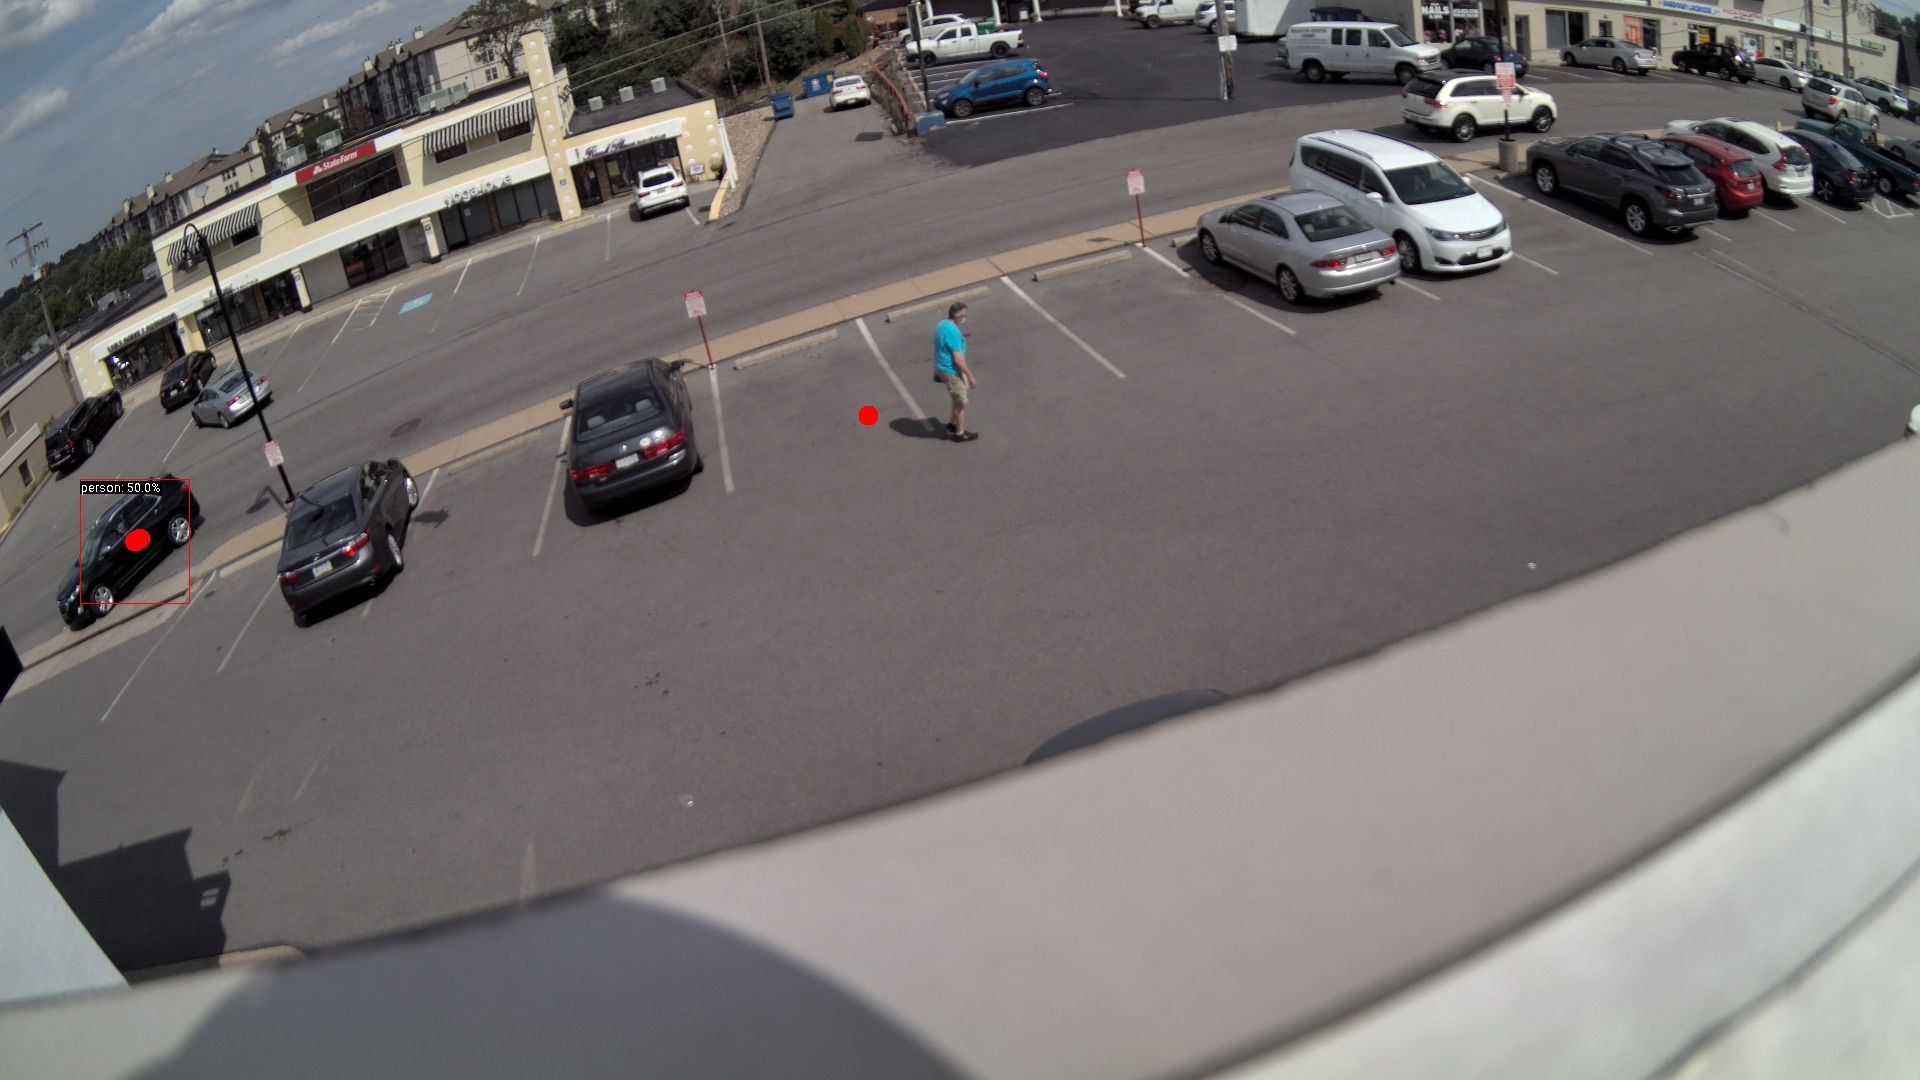person: (932, 301, 979, 444)
